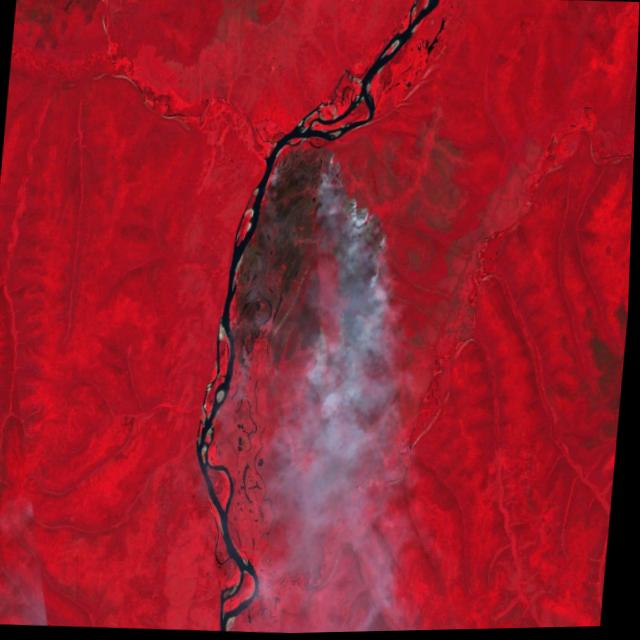fire: (272, 154, 398, 384)
